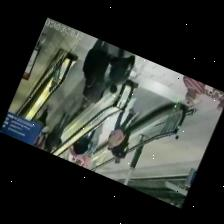person: (82, 61, 109, 106), (83, 39, 108, 86), (108, 109, 135, 150), (45, 112, 70, 152), (110, 55, 135, 92), (112, 120, 133, 163), (184, 76, 212, 106), (70, 129, 95, 160), (80, 134, 99, 168), (108, 43, 132, 63), (36, 105, 50, 127), (213, 88, 223, 111), (35, 133, 47, 149)
